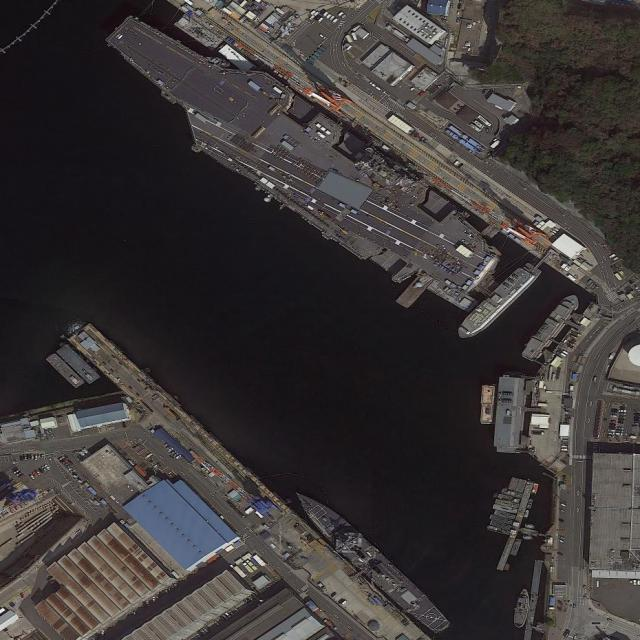Aircraft Carrier: (95, 1, 515, 322)
Destroyer: (288, 481, 451, 639)
Other Warship: (452, 257, 542, 347), (518, 290, 583, 365), (510, 586, 532, 628)
